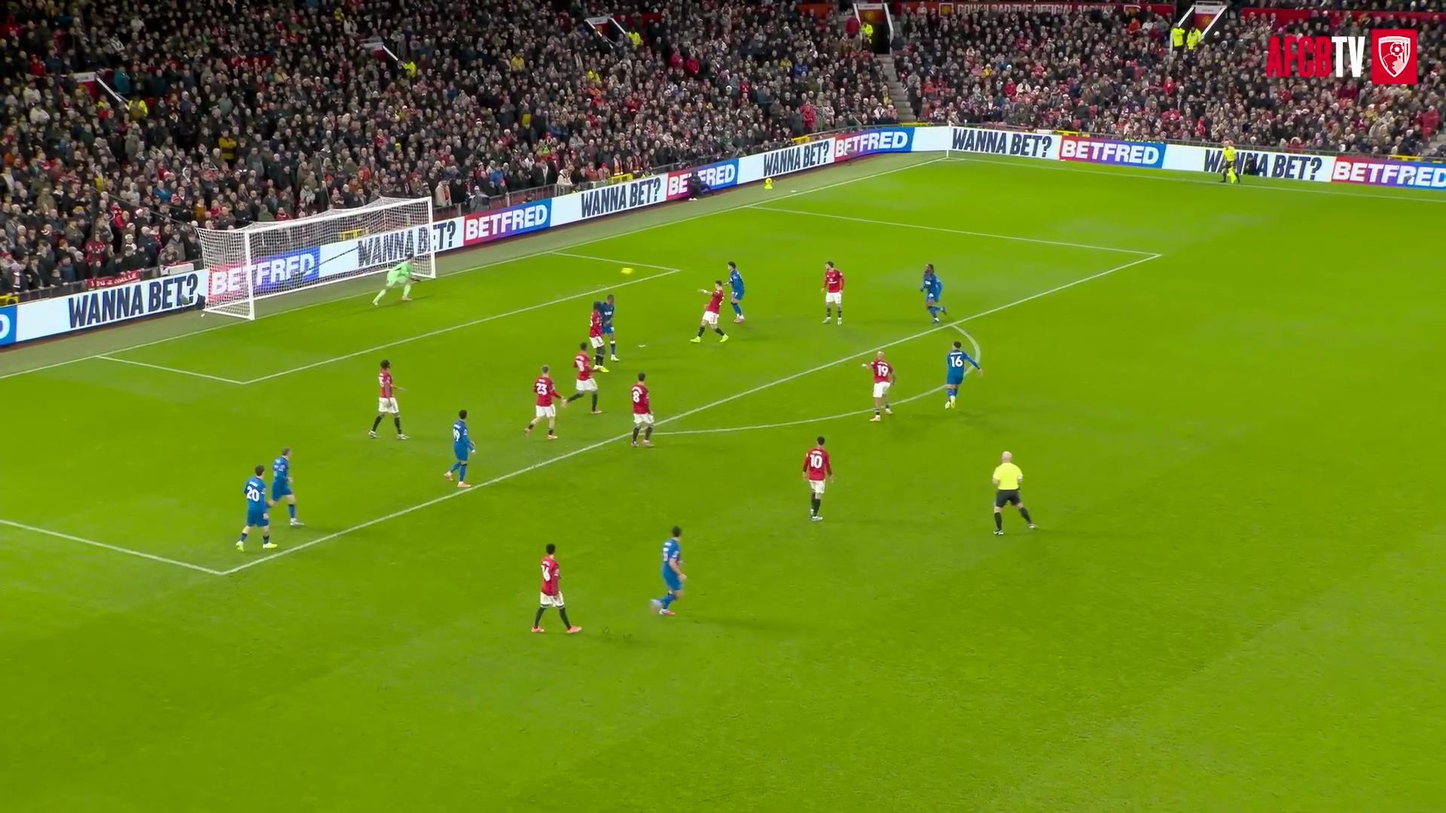football: (613, 261, 643, 280)
player: (532, 544, 581, 633), (236, 464, 277, 550), (369, 360, 408, 440), (651, 526, 686, 615), (524, 366, 566, 440), (802, 437, 832, 521), (944, 341, 981, 408), (566, 343, 600, 413), (272, 447, 302, 526), (862, 350, 895, 421), (444, 410, 474, 488), (691, 280, 728, 343), (374, 255, 416, 304), (630, 373, 653, 446), (920, 263, 947, 324), (822, 261, 844, 324), (589, 301, 608, 372), (599, 294, 619, 361), (727, 261, 744, 323)
referee: (993, 451, 1035, 534), (1221, 139, 1239, 183)
